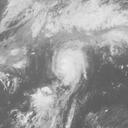cyclone: (52, 41, 86, 82)
